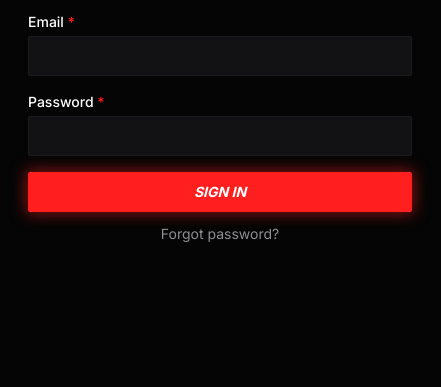
Test: staging sign-in form access decisions › signs out users not approved by the server
Type "tester@example.com" into the field labelled "Email *".
click(220, 56); type("tester@example.com")  # box [28,36,412,76]
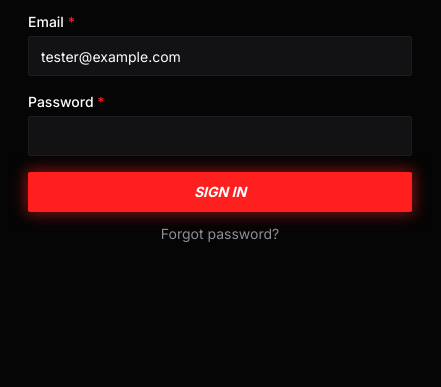
Type "correct horse battery staple" into the password field labelled "Password *".
click(220, 136); type("correct horse battery staple")  # box [28,116,412,156]
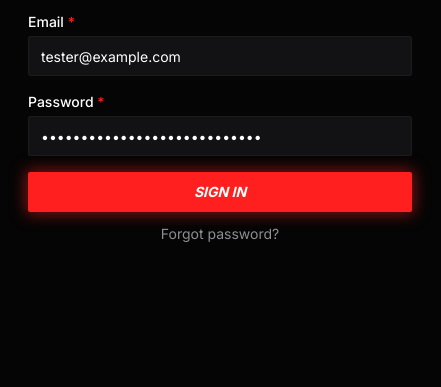
Click the button "Sign in".
click(220, 192)  # box [28,172,412,212]
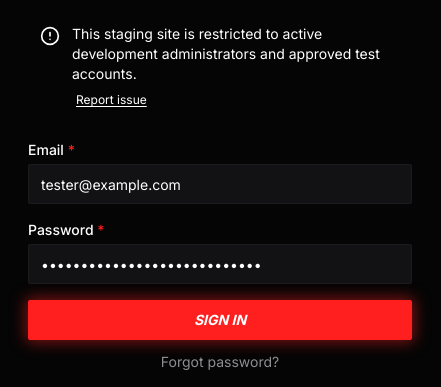
Now the text "approved test accounts" is shown, box [72,25,380,82]
